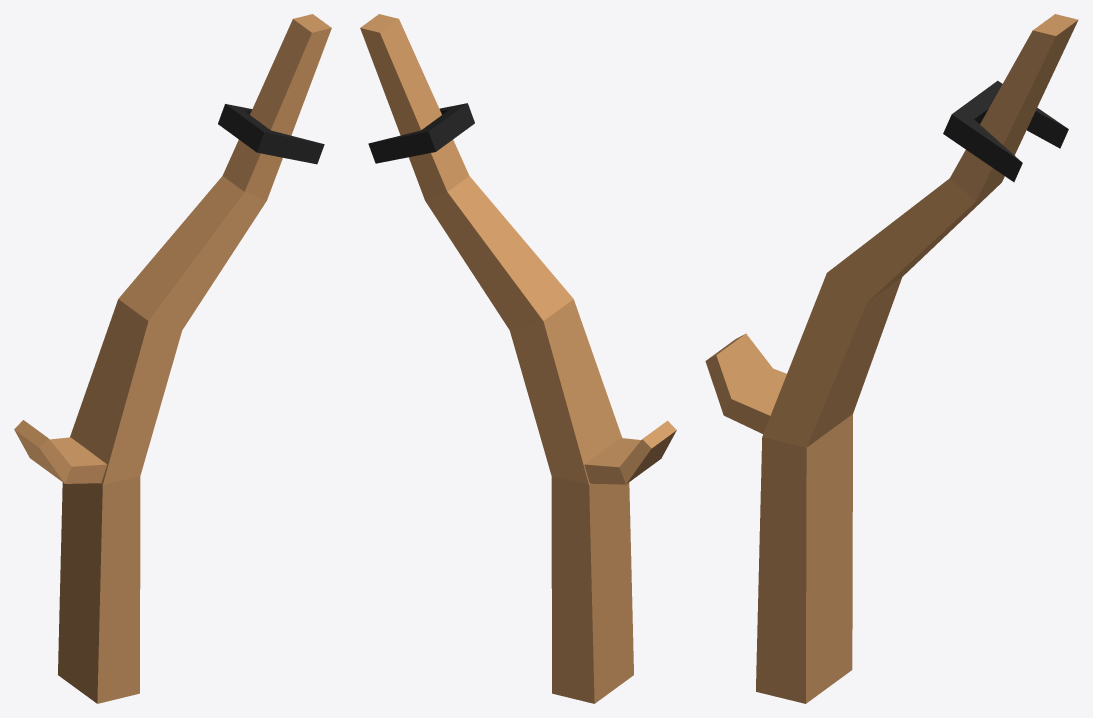
The model's file is cart_spring.fbx.
3 views of the same model, side by side, from view 1: azimuth 30°, elevation 25°; view 2: azimuth 150°, elevation 25°; view 3: azimuth 330°, elevation 25° (orthographic). The views are drawn at different scales.
Visible parts, largest first — view 1: springs_with_hook; view 2: springs_with_hook; view 3: springs_with_hook.
Boxes of the visible parts, <box> form: springs_with_hook: <box>14,14,331,703</box>; springs_with_hook: <box>360,14,676,703</box>; springs_with_hook: <box>705,14,1078,703</box>.
Size of the model in its own units: 68.45 by 135 by 15.99.
